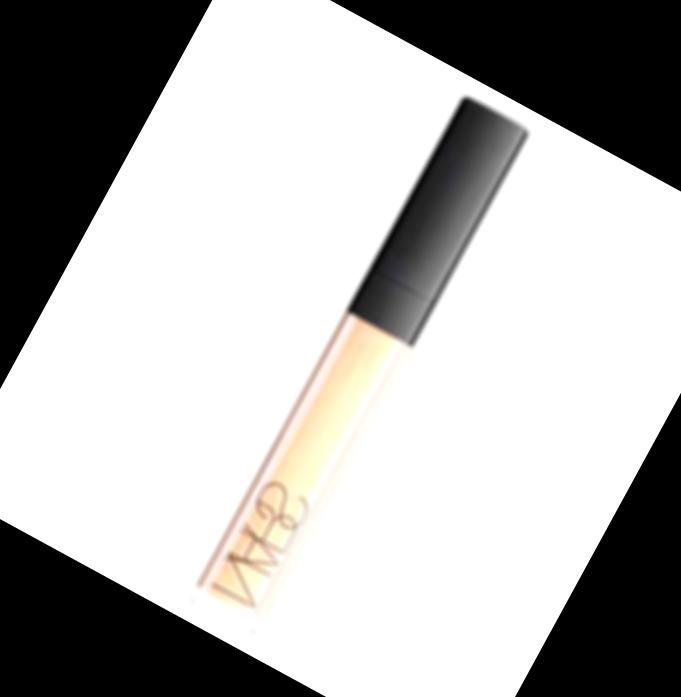cosmetic: (183, 93, 529, 639)
